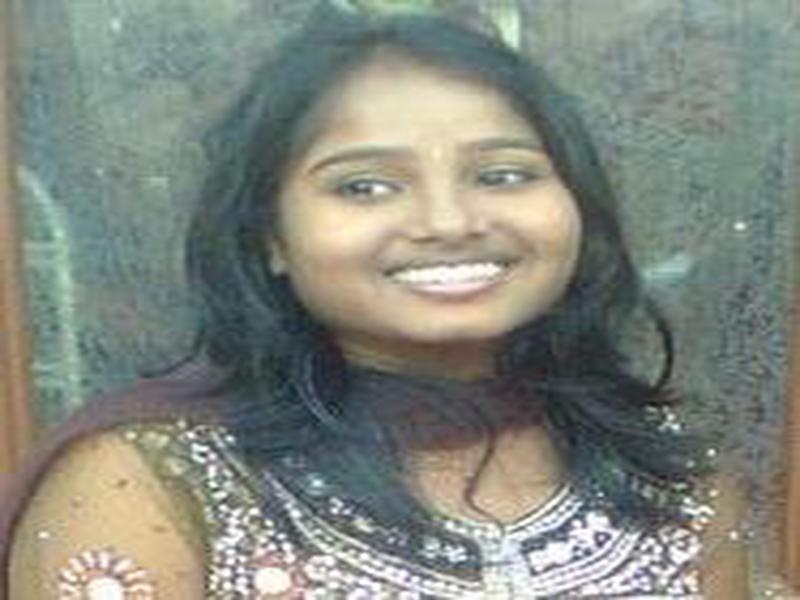without_mask: (268, 65, 585, 346)
